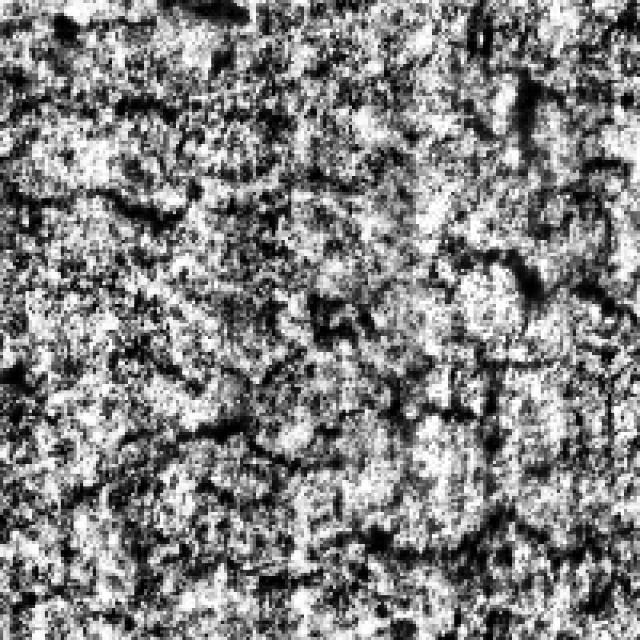Pitted_Surface: (111, 214, 614, 477), (61, 390, 634, 570), (0, 83, 416, 227), (0, 0, 288, 106)
